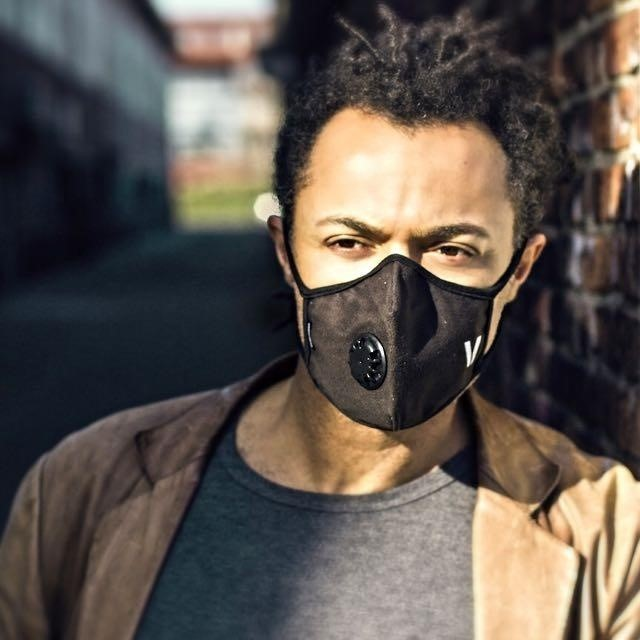face_with_mask: (271, 17, 559, 436)
